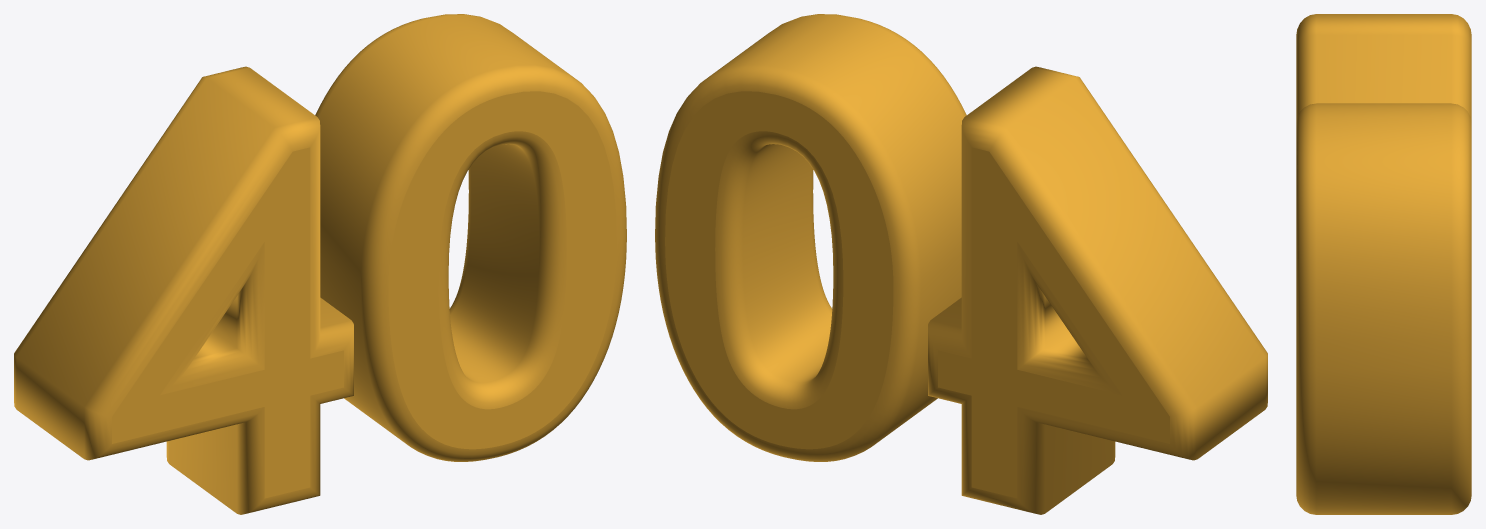
3 views of the same model, side by side, from view 1: azimuth 30°, elevation 25°; view 2: azimuth 150°, elevation 25°; view 3: azimuth 270°, elevation 25° (orthographic).
Visible parts, largest first — view 1: Text; view 2: Text; view 3: Text.
Part boxes in pixels (x1,y1,x2,y2): Text: [14, 14, 626, 514]; Text: [655, 14, 1267, 514]; Text: [1296, 14, 1471, 514].
Bounding box in the file's own units: 92.16 × 63.03 × 26.
